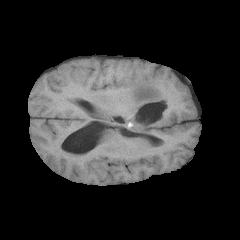glioma: (120, 79, 170, 134)
